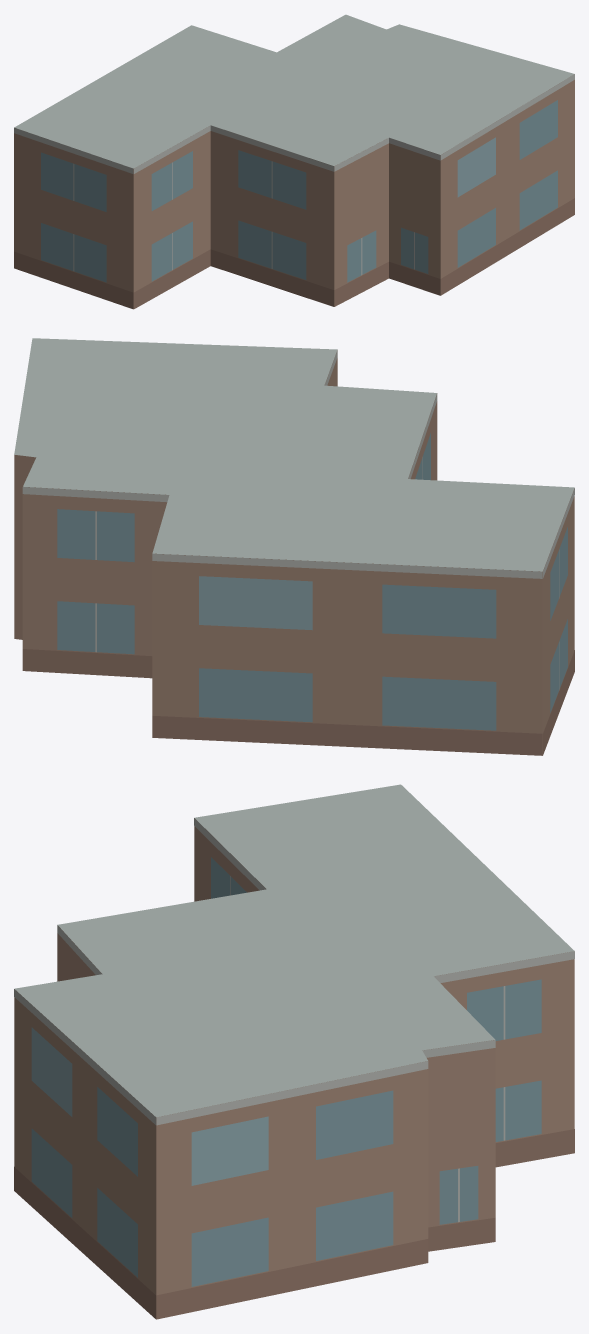
File: survey-upis-32836899.glb
The picture shows the model from 3 angles, top to bottom: view 1: azimuth 30°, elevation 25°; view 2: azimuth 150°, elevation 25°; view 3: azimuth 270°, elevation 25°; orthographic projection. The views are drawn at different scales.
Parts seen in each view (by area): view 1: survey-upis-32836899.tmp; view 2: survey-upis-32836899.tmp; view 3: survey-upis-32836899.tmp.
Part boxes in pixels (x1,y1,x2,y2): survey-upis-32836899.tmp: [14, 14, 574, 309]; survey-upis-32836899.tmp: [14, 338, 574, 755]; survey-upis-32836899.tmp: [14, 784, 574, 1319].
Size of the model in its own units: 21.57 by 6.1 by 15.35.
